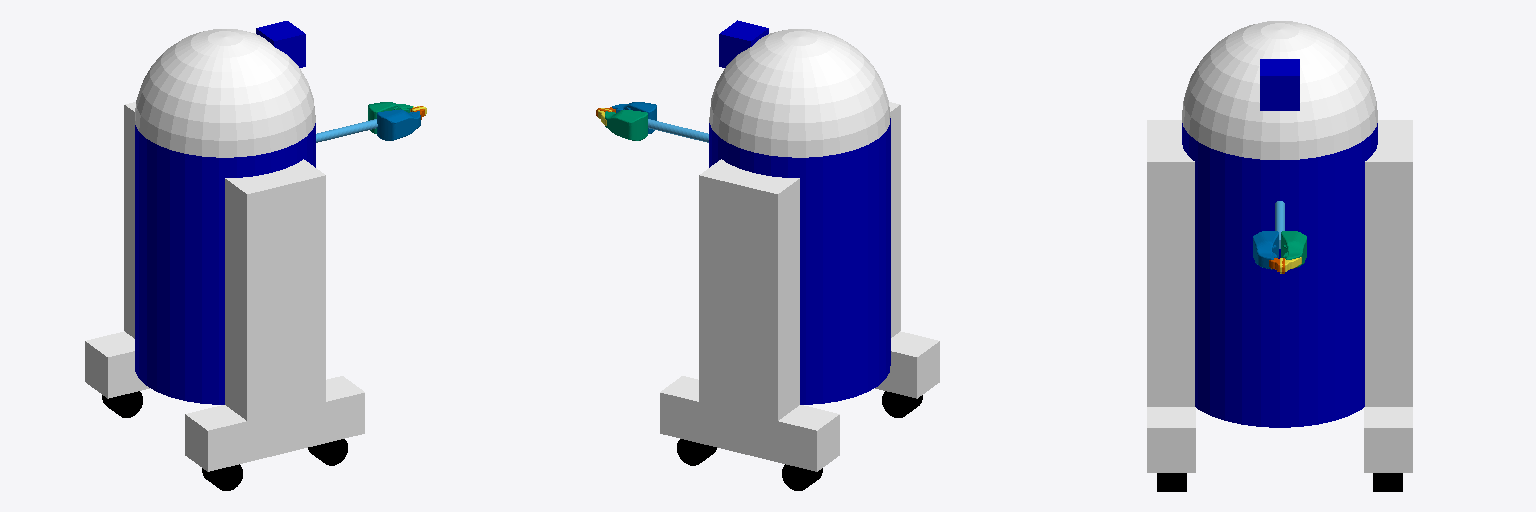
URDF robot description (physics):
<?xml version="1.0"?>
<robot name="physics">

<material name="blue">
    <color rgba="0 0 0.8 1"/>
  </material>
  <material name="black">
    <color rgba="0 0 0 1"/>
  </material>
  <material name="white">
    <color rgba="1 1 1 1"/>
  </material>

  <link name="base_link">
    <visual>
      <geometry>
        <cylinder length="0.6" radius="0.2"/>
      </geometry>
      <material name="blue"/>
    </visual>
    <collision>
      <geometry>
        <cylinder length="0.6" radius="0.2"/>
      </geometry>
    </collision>
    <inertial>
      <mass value="5"/>
      <inertia ixx="1e-3" ixy="0.0" ixz="0.0" iyy="1e-3" iyz="0.0" izz="1e-3"/>
    </inertial>
  </link>

  <link name="right_leg">
    <visual>
      <geometry>
        <box size="0.6 0.1 0.2"/>
      </geometry>
      <origin rpy="0 1.57075 0" xyz="0 0 -0.3"/>
      <material name="white"/>
    </visual>
    <collision>
      <geometry>
        <box size="0.6 0.1 0.2"/>
      </geometry>
      <origin rpy="0 1.57075 0" xyz="0 0 -0.3"/>
    </collision>
    <inertial>
      <mass value="1"/>
      <inertia ixx="1e-3" ixy="0.0" ixz="0.0" iyy="1e-3" iyz="0.0" izz="1e-3"/>
    </inertial>
  </link>
  <joint name="base_to_right_leg" type="fixed">
    <parent link="base_link"/>
    <child link="right_leg"/>
    <origin xyz="0 -0.22 0.25"/>
  </joint>z

  <link name="right_base">
    <visual>
      <geometry>
        <box size="0.4 0.1 0.1"/>
      </geometry>
      <material name="white"/>
    </visual>
    <collision>
      <geometry>
        <box size="0.4 0.1 0.1"/>
      </geometry>
    </collision>
    <inertial>
      <mass value="1"/>
      <inertia ixx="1e-3" ixy="0.0" ixz="0.0" iyy="1e-3" iyz="0.0" izz="1e-3"/>
    </inertial>
  </link>

  <joint name="right_base_joint" type="fixed">
    <parent link="right_leg"/>
    <child link="right_base"/>
    <origin xyz="0 0 -0.6"/>
  </joint>

  <link name="right_front_wheel">
    <visual>
      <origin rpy="1.57075 0 0" xyz="0 0 0"/>
      <geometry>
        <cylinder length="0.06" radius="0.035"/>
      </geometry>
      <material name="black"/>
    </visual>
    <collision>
      <origin rpy="1.57075 0 0" xyz="0 0 0"/>
      <geometry>
        <cylinder length="0.06" radius="0.035"/>
      </geometry>
    </collision>
    <inertial>
      <mass value="0.5"/>
      <inertia ixx="1e-3" ixy="0.0" ixz="0.0" iyy="1e-3" iyz="0.0" izz="1e-3"/>
    </inertial>
  </link>

  <joint name="right_front_wheel_joint" type="continuous">
    <axis rpy="0 0 0" xyz="0 1 0"/>
    <parent link="right_base"/>
    <child link="right_front_wheel"/>
    <origin rpy="0 0 0" xyz="0.133333333333 0 -0.085"/>
  </joint>

  <link name="right_back_wheel">
    <visual>
      <origin rpy="1.57075 0 0" xyz="0 0 0"/>
      <geometry>
        <cylinder length="0.06" radius="0.035"/>
      </geometry>
      <material name="black"/>
    </visual>
    <collision>
      <origin rpy="1.57075 0 0" xyz="0 0 0"/>
      <geometry>
        <cylinder length="0.06" radius="0.035"/>
      </geometry>
    </collision>
    <inertial>
      <mass value="0.5"/>
      <inertia ixx="1e-3" ixy="0.0" ixz="0.0" iyy="1e-3" iyz="0.0" izz="1e-3"/>
    </inertial>
  </link>

  <joint name="right_back_wheel_joint" type="continuous">
    <axis rpy="0 0 0" xyz="0 1 0"/>
    <parent link="right_base"/>
    <child link="right_back_wheel"/>
    <origin rpy="0 0 0" xyz="-0.133333333333 0 -0.085"/>
  </joint>

  <link name="left_leg">
    <visual>
      <geometry>
        <box size="0.6 0.1 0.2"/>
      </geometry>
      <origin rpy="0 1.57075 0" xyz="0 0 -0.3"/>
      <material name="white"/>
    </visual>
    <collision>
      <geometry>
        <box size="0.6 0.1 0.2"/>
      </geometry>
      <origin rpy="0 1.57075 0" xyz="0 0 -0.3"/>
    </collision>
    <inertial>
      <mass value="1"/>
      <inertia ixx="1e-3" ixy="0.0" ixz="0.0" iyy="1e-3" iyz="0.0" izz="1e-3"/>
    </inertial>
  </link>

  <joint name="base_to_left_leg" type="fixed">
    <parent link="base_link"/>
    <child link="left_leg"/>
    <origin xyz="0 0.22 0.25"/>
  </joint>

  <link name="left_base">
    <visual>
      <geometry>
        <box size="0.4 0.1 0.1"/>
      </geometry>
      <material name="white"/>
    </visual>
    <collision>
      <geometry>
        <box size="0.4 0.1 0.1"/>
      </geometry>
    </collision>
    <inertial>
      <mass value="1"/>
      <inertia ixx="1e-3" ixy="0.0" ixz="0.0" iyy="1e-3" iyz="0.0" izz="1e-3"/>
    </inertial>
  </link>

  <joint name="left_base_joint" type="fixed">
    <parent link="left_leg"/>
    <child link="left_base"/>
    <origin xyz="0 0 -0.6"/>
  </joint>

  <link name="left_front_wheel">
    <visual>
      <origin rpy="1.57075 0 0" xyz="0 0 0"/>
      <geometry>
        <cylinder length="0.06" radius="0.035"/>
      </geometry>
      <material name="black"/>
    </visual>
    <collision>
      <origin rpy="1.57075 0 0" xyz="0 0 0"/>
      <geometry>
        <cylinder length="0.06" radius="0.035"/>
      </geometry>
    </collision>
    <inertial>
      <mass value="0.5"/>
      <inertia ixx="1e-3" ixy="0.0" ixz="0.0" iyy="1e-3" iyz="0.0" izz="1e-3"/>
    </inertial>
  </link>

  <joint name="left_front_wheel_joint" type="continuous">
    <axis rpy="0 0 0" xyz="0 1 0"/>
    <parent link="left_base"/>
    <child link="left_front_wheel"/>
    <origin rpy="0 0 0" xyz="0.133333333333 0 -0.085"/>
  </joint>

  <link name="left_back_wheel">
    <visual>
      <origin rpy="1.57075 0 0" xyz="0 0 0"/>
      <geometry>
        <cylinder length="0.06" radius="0.035"/>
      </geometry>
      <material name="black"/>
    </visual>
    <collision>
      <origin rpy="1.57075 0 0" xyz="0 0 0"/>
      <geometry>
        <cylinder length="0.06" radius="0.035"/>
      </geometry>
    </collision>
    <inertial>
      <mass value="0.5"/>
      <inertia ixx="1e-3" ixy="0.0" ixz="0.0" iyy="1e-3" iyz="0.0" izz="1e-3"/>
    </inertial>
  </link>

  <joint name="left_back_wheel_joint" type="continuous">
    <axis rpy="0 0 0" xyz="0 1 0"/>
    <parent link="left_base"/>
    <child link="left_back_wheel"/>
    <origin rpy="0 0 0" xyz="-0.133333333333 0 -0.085"/>
  </joint>

  <joint name="gripper_extension" type="prismatic">
    <parent link="base_link"/>
    <child link="gripper_pole"/>
    <limit effort="1000.0" lower="-0.38" upper="0" velocity="0.5"/>
    <origin rpy="0 0 0" xyz="0.19 0 0.2"/>
  </joint>

  <link name="gripper_pole">
    <visual>
      <geometry>
        <cylinder length="0.2" radius="0.01"/>
      </geometry>
      <origin rpy="0 1.57075 0 " xyz="0.1 0 0"/>
    </visual>
    <collision>
      <geometry>
        <cylinder length="0.2" radius="0.01"/>
      </geometry>
      <origin rpy="0 1.57075 0 " xyz="0.1 0 0"/>
    </collision>
    <inertial>
      <mass value="0.05"/>
      <inertia ixx="1e-3" ixy="0.0" ixz="0.0" iyy="1e-3" iyz="0.0" izz="1e-3"/>
    </inertial>
  </link>

  <joint name="left_gripper_joint" type="revolute">
    <axis xyz="0 0 1"/>
    <limit effort="1000.0" lower="0.0" upper="0.548" velocity="0.5"/>
    <origin rpy="0 0 0" xyz="0.2 0.01 0"/>
    <parent link="gripper_pole"/>
    <child link="left_gripper"/>
  </joint>

  <link name="left_gripper">
    <visual>
      <origin rpy="0.0 0 0" xyz="0 0 0"/>
      <geometry>
        <mesh filename="package://urdf_tutorial/meshes/l_finger.dae"/>
      </geometry>
    </visual>
    <collision>
      <geometry>
        <mesh filename="package://urdf_tutorial/meshes/l_finger.dae"/>
      </geometry>
      <origin rpy="0.0 0 0" xyz="0 0 0"/>
    </collision>
    <inertial>
      <mass value="0.05"/>
      <inertia ixx="1e-3" ixy="0.0" ixz="0.0" iyy="1e-3" iyz="0.0" izz="1e-3"/>
    </inertial>
  </link>

  <joint name="left_tip_joint" type="fixed">
    <parent link="left_gripper"/>
    <child link="left_tip"/>
  </joint>

  <link name="left_tip">
    <visual>
      <origin rpy="0.0 0 0" xyz="0.09137 0.00495 0"/>
      <geometry>
        <mesh filename="package://urdf_tutorial/meshes/l_finger_tip.dae"/>
      </geometry>
    </visual>
    <collision>
      <geometry>
        <mesh filename="package://urdf_tutorial/meshes/l_finger_tip.dae"/>
      </geometry>
      <origin rpy="0.0 0 0" xyz="0.09137 0.00495 0"/>
    </collision>
    <inertial>
      <mass value="0.05"/>
      <inertia ixx="1e-3" ixy="0.0" ixz="0.0" iyy="1e-3" iyz="0.0" izz="1e-3"/>
    </inertial>
  </link>

  <joint name="right_gripper_joint" type="revolute">
    <axis xyz="0 0 -1"/>
    <limit effort="1000.0" lower="0.0" upper="0.548" velocity="0.5"/>
    <origin rpy="0 0 0" xyz="0.2 -0.01 0"/>
    <parent link="gripper_pole"/>
    <child link="right_gripper"/>
  </joint>

  <link name="right_gripper">
    <visual>
      <origin rpy="-3.1415 0 0" xyz="0 0 0"/>
      <geometry>
        <mesh filename="package://urdf_tutorial/meshes/l_finger.dae"/>
      </geometry>
    </visual>
    <collision>
      <geometry>
        <mesh filename="package://urdf_tutorial/meshes/l_finger.dae"/>
      </geometry>
      <origin rpy="-3.1415 0 0" xyz="0 0 0"/>
    </collision>
    <inertial>
      <mass value="0.05"/>
      <inertia ixx="1e-3" ixy="0.0" ixz="0.0" iyy="1e-3" iyz="0.0" izz="1e-3"/>
    </inertial>
  </link>

  <joint name="right_tip_joint" type="fixed">
    <parent link="right_gripper"/>
    <child link="right_tip"/>
  </joint>

  <link name="right_tip">
    <visual>
      <origin rpy="-3.1415 0 0" xyz="0.09137 0.00495 0"/>
      <geometry>
        <mesh filename="package://urdf_tutorial/meshes/l_finger_tip.dae"/>
      </geometry>
    </visual>
    <collision>
      <geometry>
        <mesh filename="package://urdf_tutorial/meshes/l_finger_tip.dae"/>
      </geometry>
      <origin rpy="-3.1415 0 0" xyz="0.09137 0.00495 0"/>
    </collision>
    <inertial>
      <mass value="0.05"/>
      <inertia ixx="1e-3" ixy="0.0" ixz="0.0" iyy="1e-3" iyz="0.0" izz="1e-3"/>
    </inertial>
  </link>

  <link name="head">
    <visual>
      <geometry>
        <sphere radius="0.2"/>
      </geometry>
      <material name="white"/>
    </visual>
    <collision>
      <geometry>
        <sphere radius="0.2"/>
      </geometry>
    </collision>
    <inertial>
      <mass value="1"/>
      <inertia ixx="1e-3" ixy="0.0" ixz="0.0" iyy="1e-3" iyz="0.0" izz="1e-3"/>
    </inertial>
  </link>

  <joint name="head_swivel" type="continuous">
    <parent link="base_link"/>
    <child link="head"/>
    <axis xyz="0 0 1"/>
    <origin xyz="0 0 0.3"/>
  </joint>

  <link name="box">
    <visual>
      <geometry>
        <box size="0.08 0.08 0.08"/>
      </geometry>
      <material name="blue"/>
      <origin xyz="-0.04 0 0"/>
    </visual>
    <collision>
      <geometry>
        <box size="0.08 0.08 0.08"/>
      </geometry>
    </collision>
    <inertial>
      <mass value="0.1"/>
      <inertia ixx="1e-3" ixy="0.0" ixz="0.0" iyy="1e-3" iyz="0.0" izz="1e-3"/>
    </inertial>
  </link>

  <joint name="tobox" type="fixed">
    <parent link="head"/>
    <child link="box"/>
    <origin xyz="0.1814 0 0.1414"/>
  </joint>

</robot>

--- Facts derived from the render (not from the file) ---
3 views of the same robot in one strip: view 1: azimuth 30°, elevation 25°; view 2: azimuth 150°, elevation 25°; view 3: azimuth 270°, elevation 25° (orthographic).
Robot: physics — 16 links, 15 joints (2 revolute, 5 continuous, 1 prismatic, 7 fixed); root link base_link; default pose: all joints at 0.
Visible links, largest first — view 1: right_leg, base_link, head, right_base, left_base, left_leg, box, right_gripper, right_back_wheel, left_back_wheel, right_front_wheel, gripper_pole; view 2: left_leg, base_link, head, left_base, right_base, right_leg, box, left_gripper, right_back_wheel, left_back_wheel, left_front_wheel, gripper_pole; view 3: base_link, head, right_leg, left_leg, right_base, left_base, box, right_gripper, left_gripper, right_front_wheel, left_front_wheel.
Boxes of the visible links, left/top/right/bottom form: right_leg: left=225, top=159, right=325, bottom=439; base_link: left=135, top=123, right=315, bottom=404; head: left=135, top=29, right=315, bottom=157; right_base: left=185, top=376, right=364, bottom=471; left_base: left=85, top=331, right=149, bottom=398; left_leg: left=124, top=102, right=135, bottom=338; box: left=256, top=21, right=305, bottom=67; right_gripper: left=377, top=109, right=420, bottom=140; right_back_wheel: left=202, top=464, right=242, bottom=490; left_back_wheel: left=102, top=391, right=142, bottom=417; right_front_wheel: left=308, top=439, right=347, bottom=465; gripper_pole: left=316, top=119, right=377, bottom=142; left_leg: left=699, top=159, right=799, bottom=441; base_link: left=709, top=118, right=890, bottom=404; head: left=709, top=29, right=890, bottom=157; left_base: left=660, top=376, right=839, bottom=471; right_base: left=875, top=331, right=939, bottom=398; right_leg: left=889, top=102, right=900, bottom=337; box: left=719, top=20, right=768, bottom=67; left_gripper: left=605, top=110, right=647, bottom=140; right_back_wheel: left=882, top=391, right=922, bottom=417; left_back_wheel: left=782, top=464, right=822, bottom=490; left_front_wheel: left=677, top=439, right=716, bottom=465; gripper_pole: left=648, top=119, right=708, bottom=142; base_link: left=1182, top=123, right=1377, bottom=427; head: left=1182, top=21, right=1377, bottom=159; right_leg: left=1147, top=120, right=1194, bottom=406; left_leg: left=1365, top=120, right=1412, bottom=406; right_base: left=1147, top=407, right=1195, bottom=472; left_base: left=1364, top=407, right=1412, bottom=472; box: left=1260, top=59, right=1299, bottom=110; right_gripper: left=1253, top=231, right=1278, bottom=269; left_gripper: left=1281, top=231, right=1306, bottom=267; right_front_wheel: left=1157, top=473, right=1186, bottom=491; left_front_wheel: left=1373, top=473, right=1402, bottom=491.
Size in the robot's own frame: 0.7126 by 0.54 by 0.97 metres.
Meshes: 2 distinct files referenced, 4 mesh visuals loaded (2 Collada DAE).